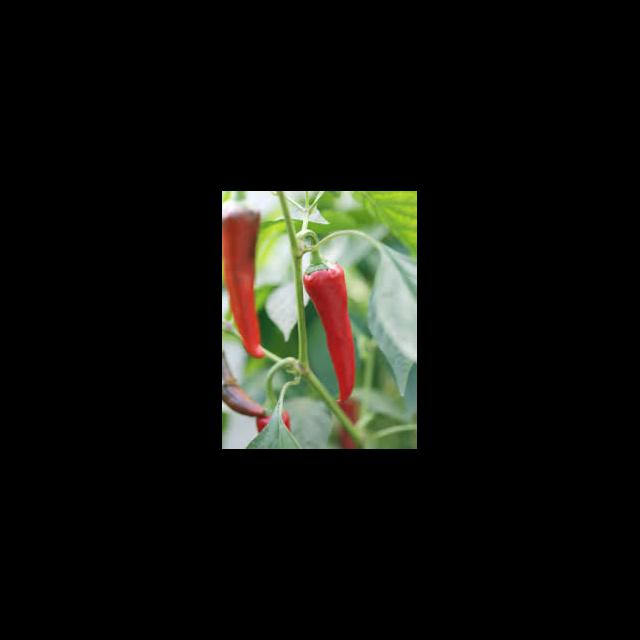chili_pepper: (302, 264, 356, 403), (222, 210, 262, 358)
